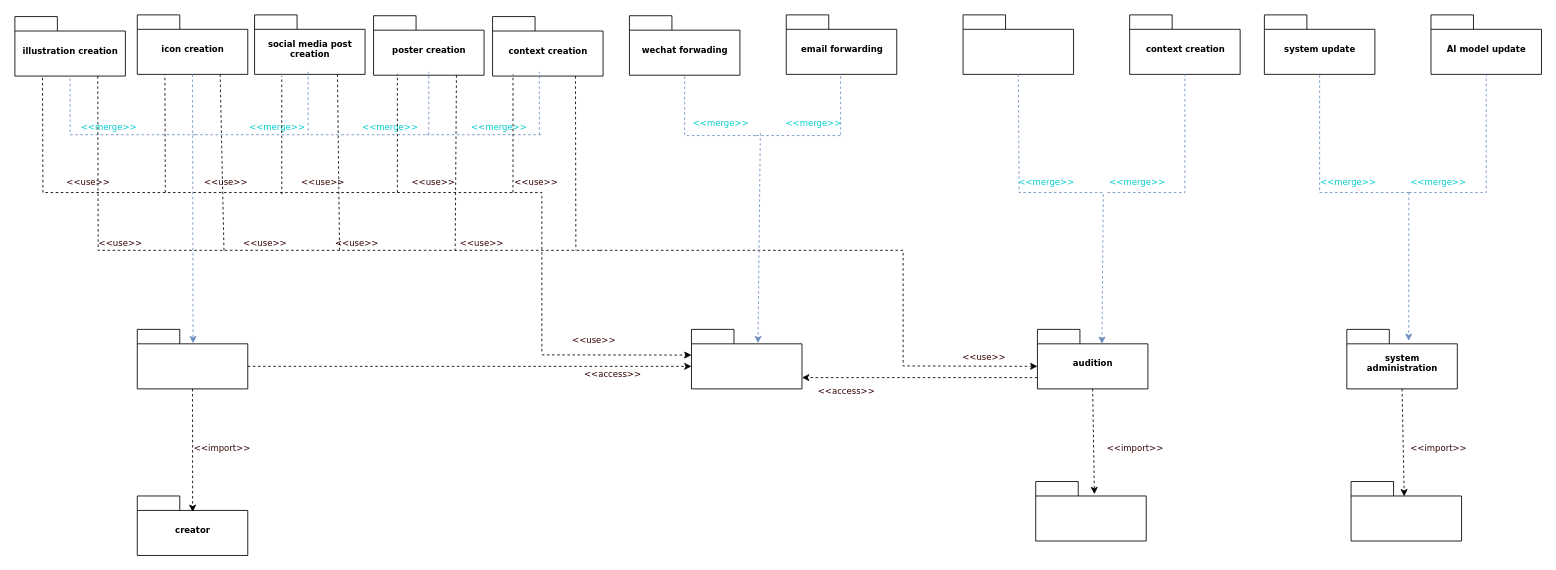
Some shapes in this 1556 by 570 pixel diagram are drawn without their labels. The centre of each missing label's shape, as x and y in pixels:
administrator: (x=1406, y=511)
context audit: (x=1018, y=44)
creation: (x=192, y=359)
forwarding system: (x=746, y=359)
supervisor: (x=1090, y=511)
